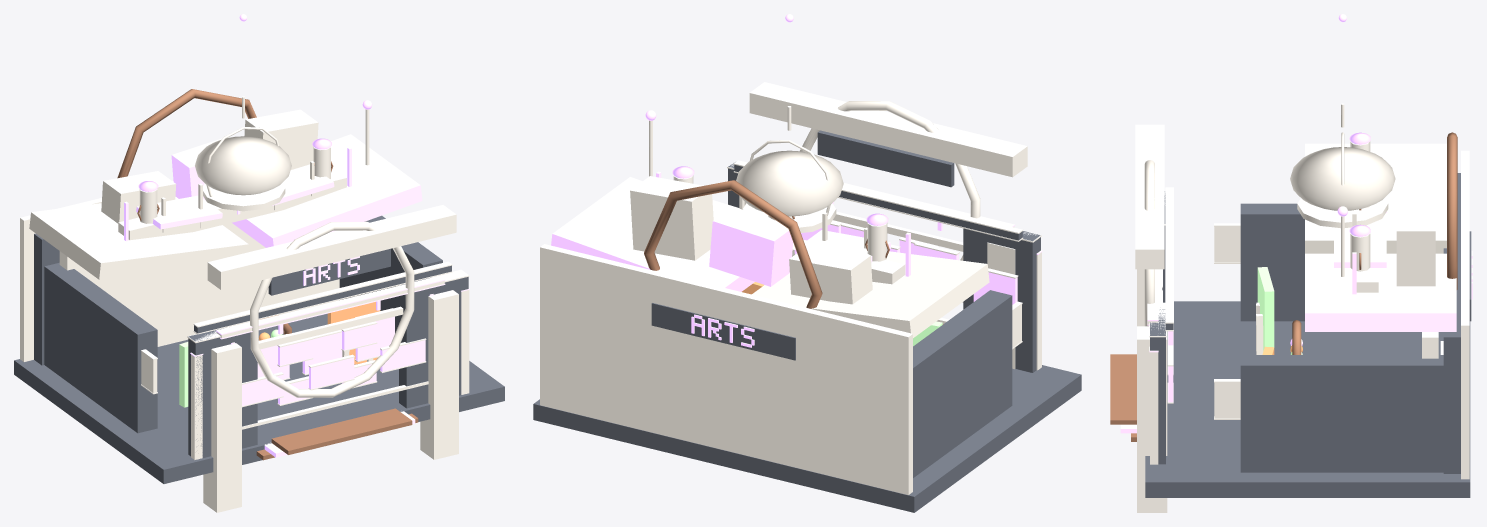
File: arts-studio.glb
3 views of the same model, side by side, from view 1: azimuth 30°, elevation 25°; view 2: azimuth 150°, elevation 25°; view 3: azimuth 270°, elevation 25° (orthographic). The views are drawn at different scales.
Parts seen in each view (by area): view 1: arts-studio:near:surface:1, arts-studio:near:surface:0, arts-studio:near:surface:2, arts-studio:far:surface:0, arts-studio:near:surface:3, arts-studio:city-identity:studio-star, arts-studio:near:surface:4, arts-studio:near:surface:5; view 2: arts-studio:near:surface:1, arts-studio:near:surface:0, arts-studio:near:surface:2, arts-studio:city-identity:studio-star; view 3: arts-studio:near:surface:0, arts-studio:near:surface:1, arts-studio:near:surface:2, arts-studio:near:surface:3, arts-studio:city-identity:studio-star, arts-studio:near:surface:5, arts-studio:far:surface:0.
Boxes of the visible parts, bbox=[...] form: arts-studio:near:surface:1: bbox=[20, 96, 469, 512]; arts-studio:near:surface:0: bbox=[14, 215, 504, 483]; arts-studio:near:surface:2: bbox=[124, 14, 469, 457]; arts-studio:far:surface:0: bbox=[59, 223, 339, 346]; arts-studio:near:surface:3: bbox=[137, 161, 418, 460]; arts-studio:city-identity:studio-star: bbox=[117, 89, 256, 178]; arts-studio:near:surface:4: bbox=[258, 302, 380, 364]; arts-studio:near:surface:5: bbox=[179, 329, 282, 407]; arts-studio:near:surface:1: bbox=[540, 82, 1041, 494]; arts-studio:near:surface:0: bbox=[533, 130, 1081, 512]; arts-studio:near:surface:2: bbox=[551, 14, 1042, 347]; arts-studio:city-identity:studio-star: bbox=[644, 180, 822, 308]; arts-studio:near:surface:0: bbox=[1145, 173, 1471, 497]; arts-studio:near:surface:1: bbox=[1135, 103, 1469, 512]; arts-studio:near:surface:2: bbox=[1120, 14, 1472, 433]; arts-studio:near:surface:3: bbox=[1110, 209, 1361, 441]; arts-studio:city-identity:studio-star: bbox=[1447, 132, 1457, 289]; arts-studio:near:surface:5: bbox=[1257, 267, 1302, 354]; arts-studio:far:surface:0: bbox=[1422, 332, 1438, 358].
Size of the model in its own units: 15.4 by 17.25 by 13.05.
